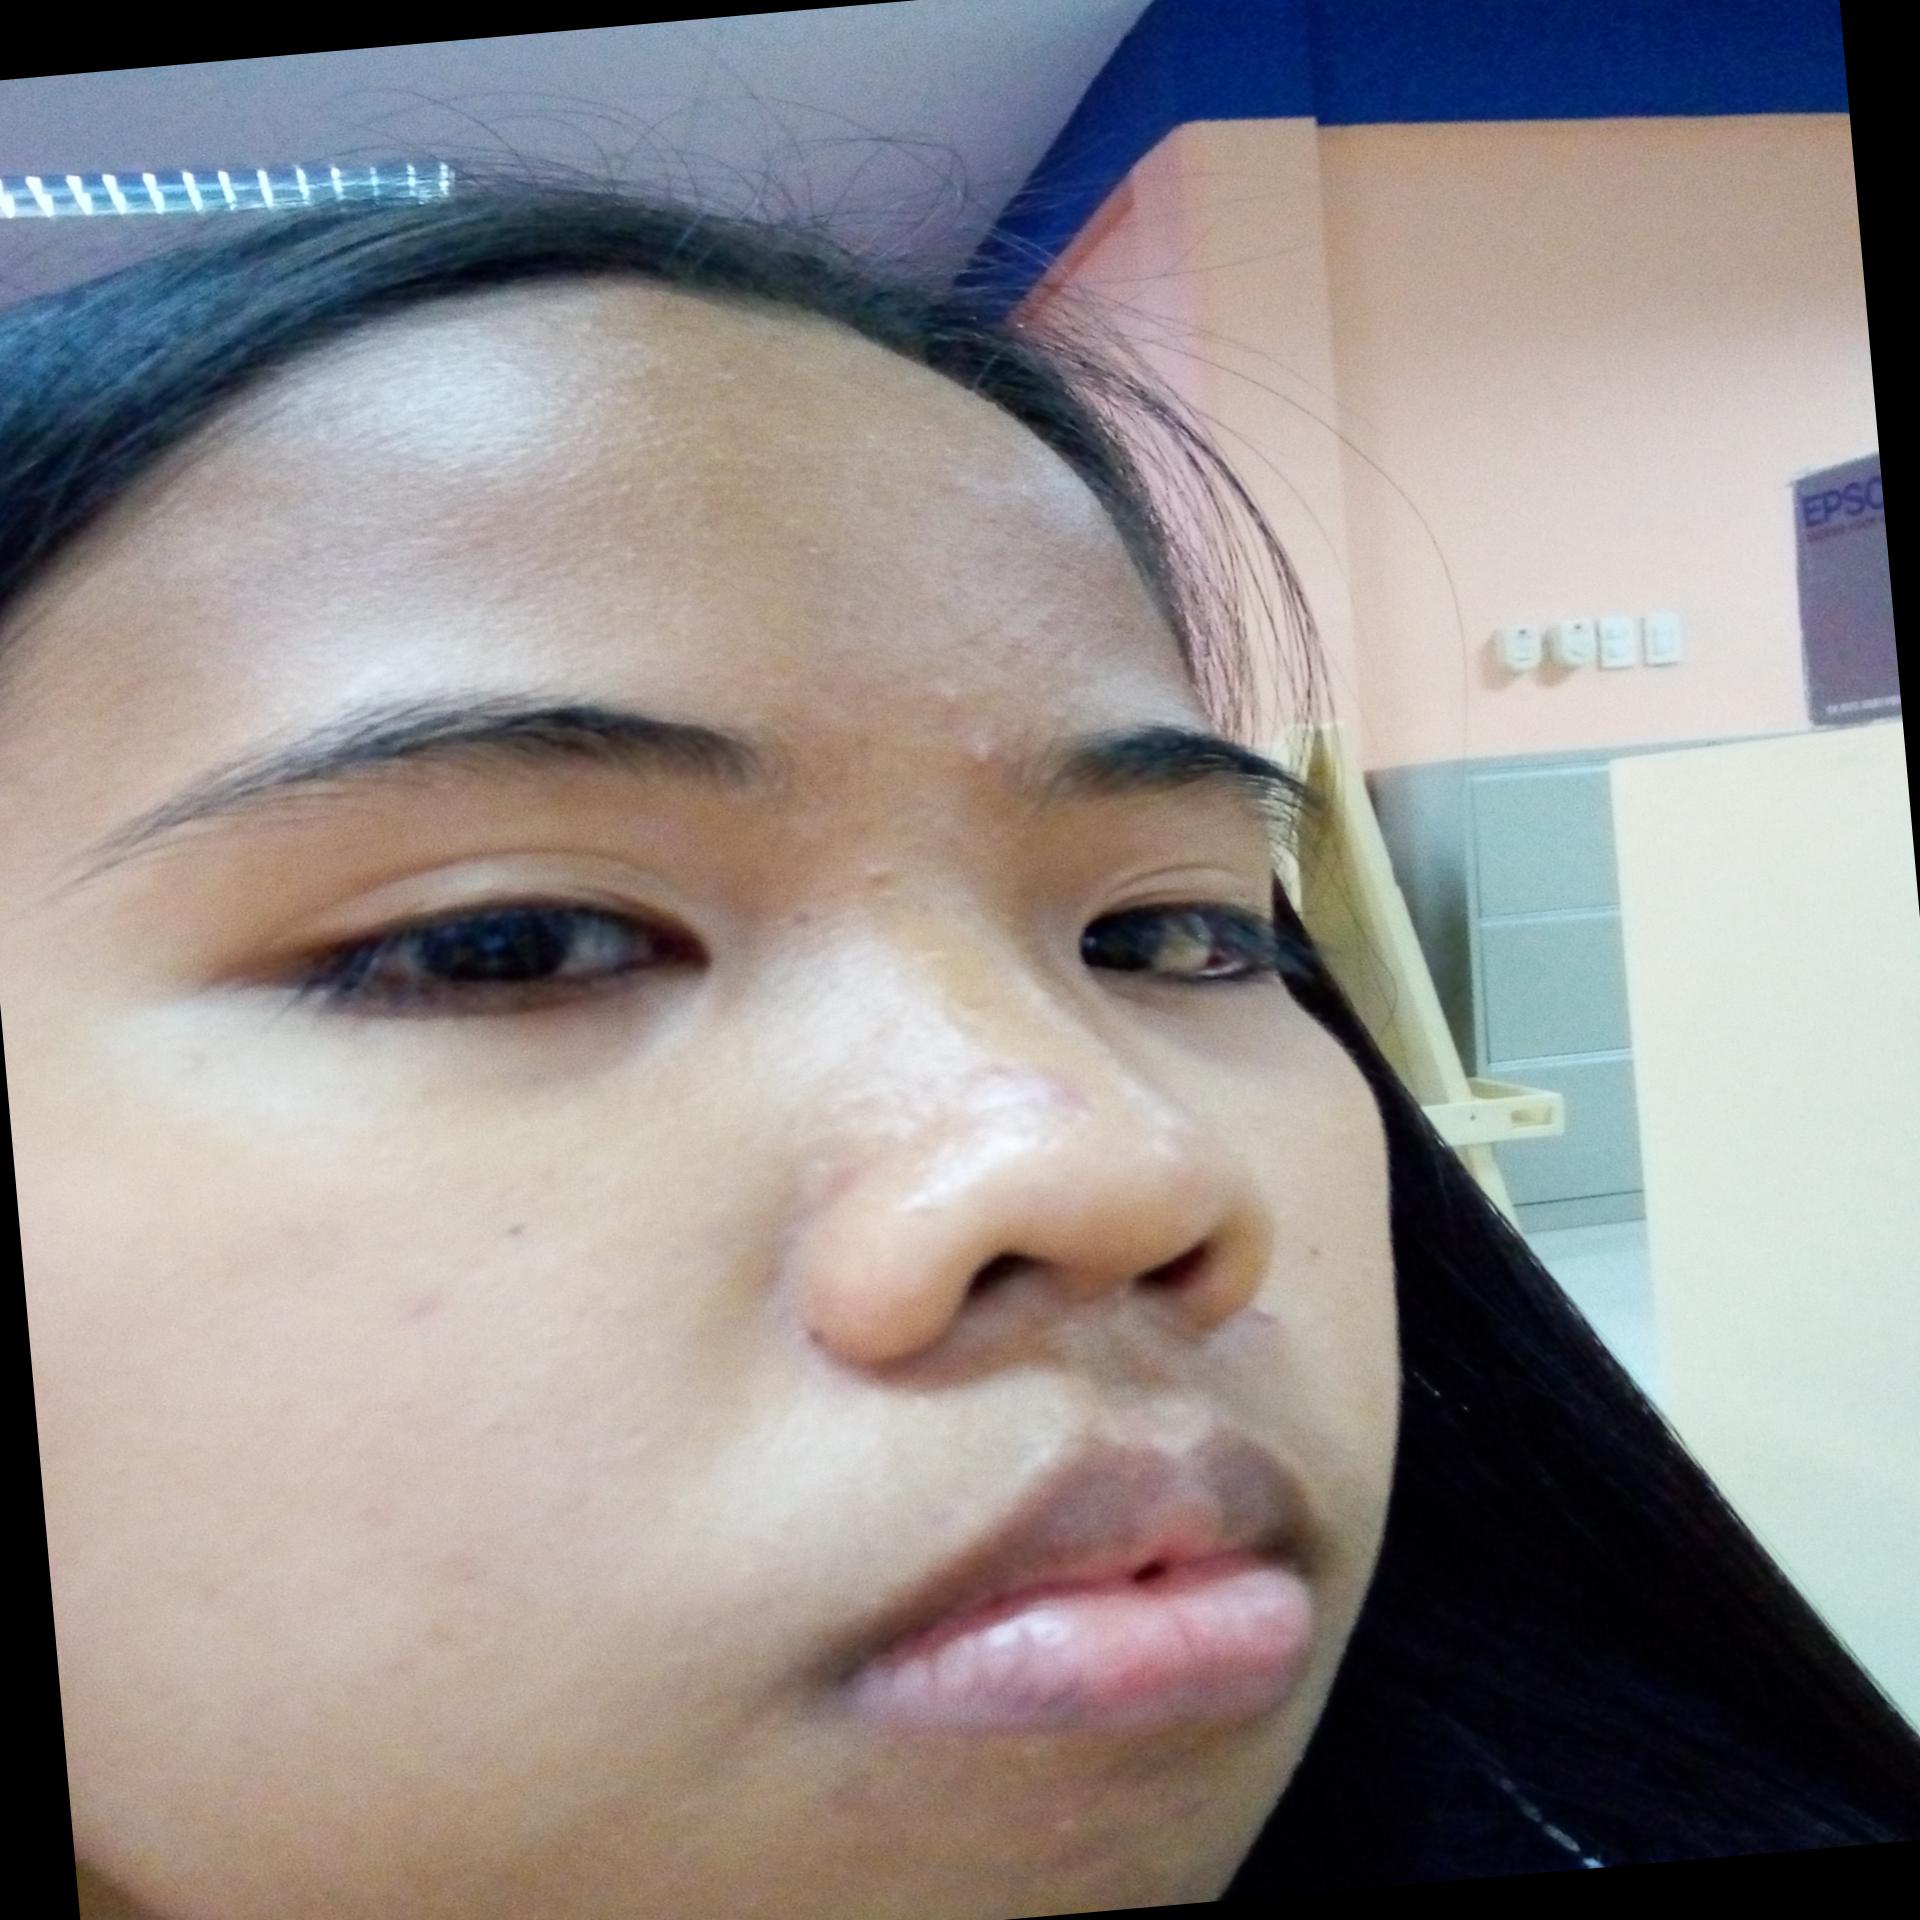Acne: (941, 737, 1002, 791), (911, 679, 988, 716), (853, 858, 900, 893), (1250, 1298, 1275, 1333)
